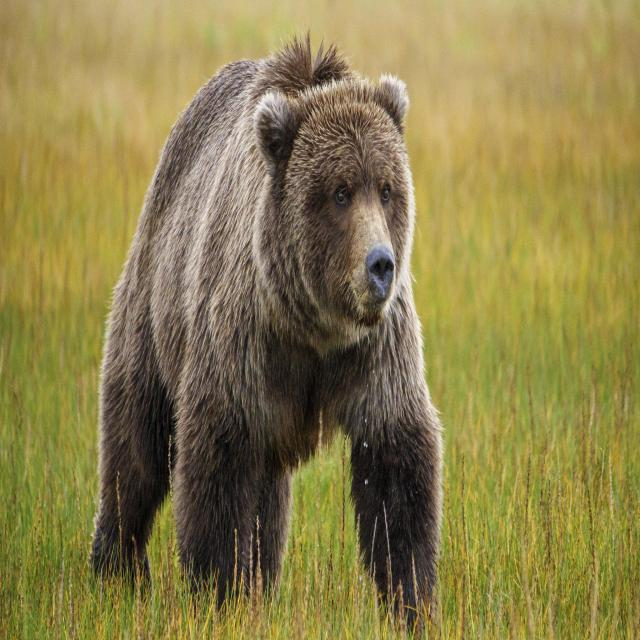Bear: (89, 39, 445, 626)
